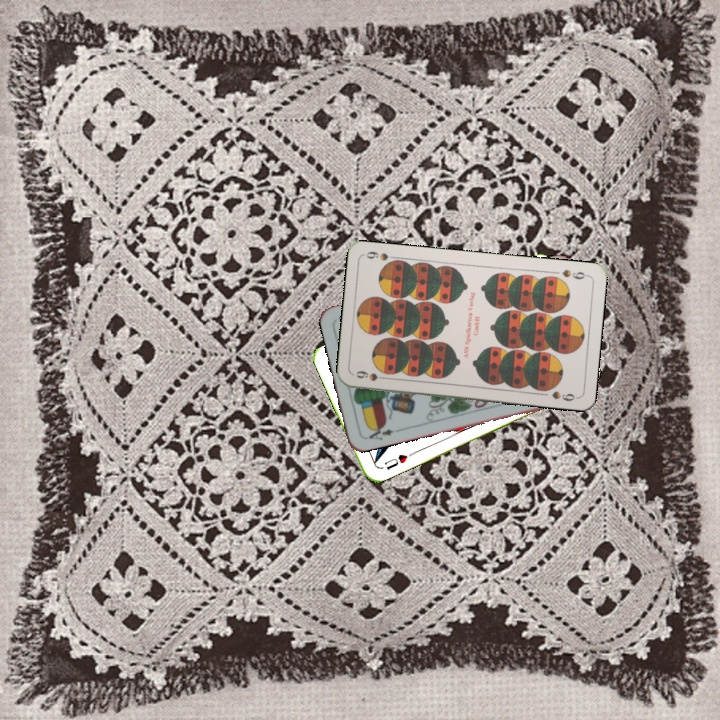EA: (361, 421, 396, 443)
HU: (380, 450, 410, 472)
S9: (352, 367, 392, 383), (558, 265, 591, 282)
